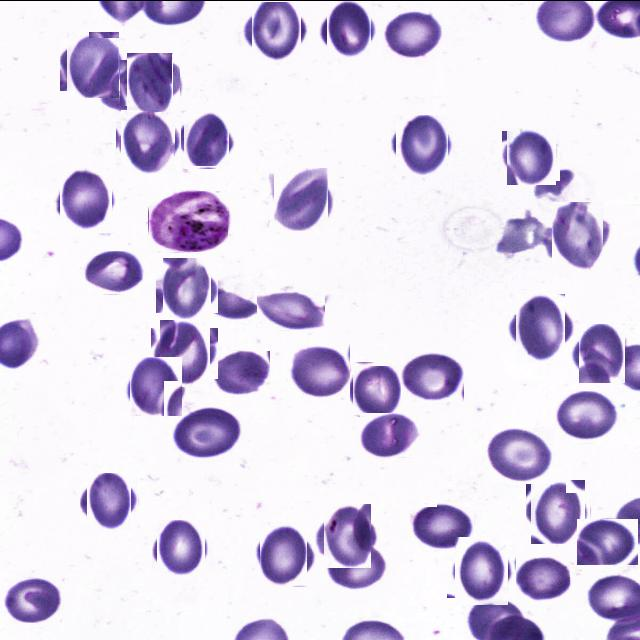difficult: (148, 190, 228, 252)
red blood cell: (485, 427, 554, 483), (547, 206, 608, 267), (451, 540, 512, 601), (528, 480, 588, 540), (510, 297, 570, 357), (63, 34, 123, 94), (56, 170, 116, 230), (118, 111, 178, 170), (172, 406, 242, 456), (155, 323, 214, 382), (288, 343, 350, 399), (272, 170, 331, 228), (382, 9, 448, 60), (394, 116, 451, 174), (248, 1, 306, 58), (556, 390, 618, 442), (400, 351, 464, 401), (256, 525, 312, 582), (128, 358, 184, 414), (319, 507, 375, 563), (409, 502, 474, 549), (160, 260, 214, 316), (504, 128, 558, 182), (328, 540, 386, 590), (578, 518, 640, 564), (576, 326, 628, 380), (154, 522, 208, 574), (359, 412, 420, 458), (124, 55, 176, 108), (323, 4, 375, 56), (350, 362, 402, 414), (181, 113, 232, 165), (257, 291, 325, 329), (5, 577, 62, 622), (212, 350, 270, 394), (84, 476, 135, 526), (515, 555, 570, 601), (85, 250, 143, 293)
